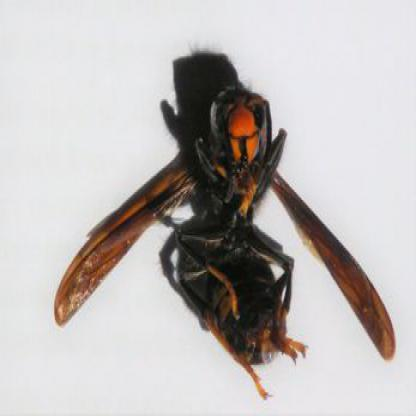Asian Hornet: (50, 36, 400, 404)
